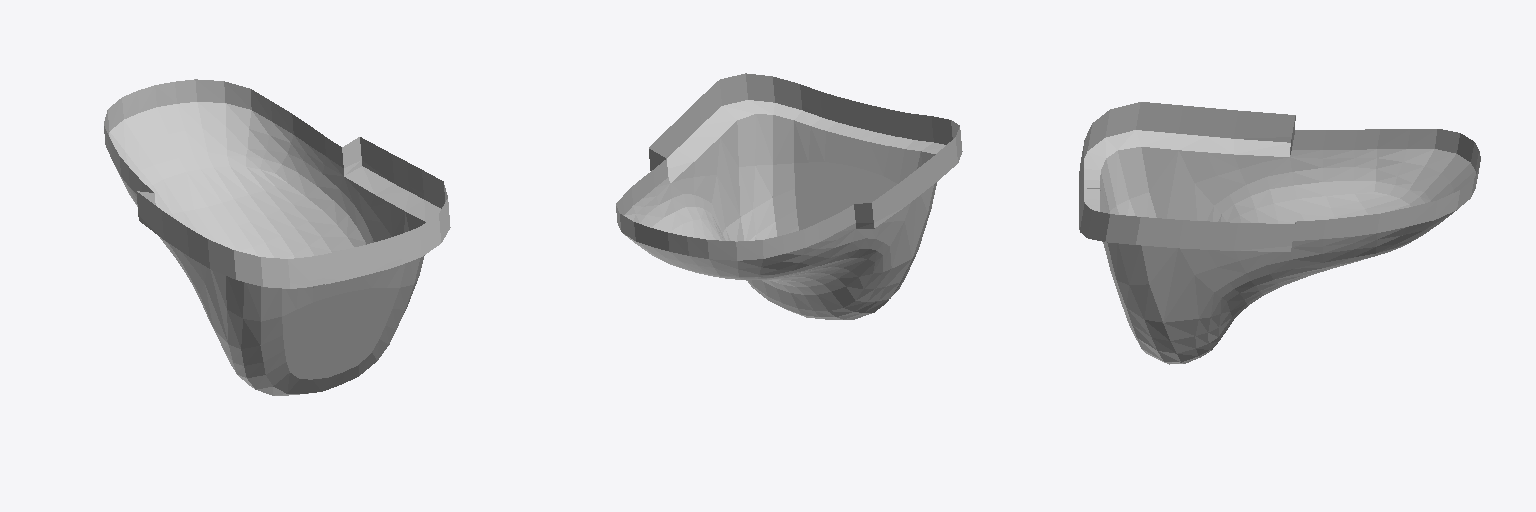
The model's file is vr_controller_05_wireless_b_trigger.obj.
3 renders of one model, left to right at view 1: azimuth 30°, elevation 25°; view 2: azimuth 150°, elevation 25°; view 3: azimuth 270°, elevation 25°, orthographic.
Parts seen in each view (by area): view 1: trigger group1; view 2: trigger group1; view 3: trigger group1.
Part boxes in pixels (x1,y1,x2,y2): trigger group1: (104,79,450,395); trigger group1: (616,73,962,319); trigger group1: (1079,102,1480,364).
Size of the model in its own units: 0.0258 by 0.0203 by 0.0381.